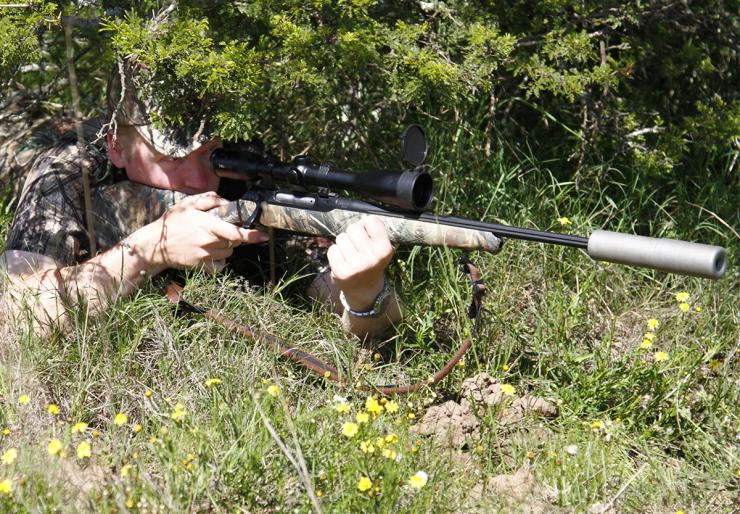Rifle: (74, 148, 732, 287)
